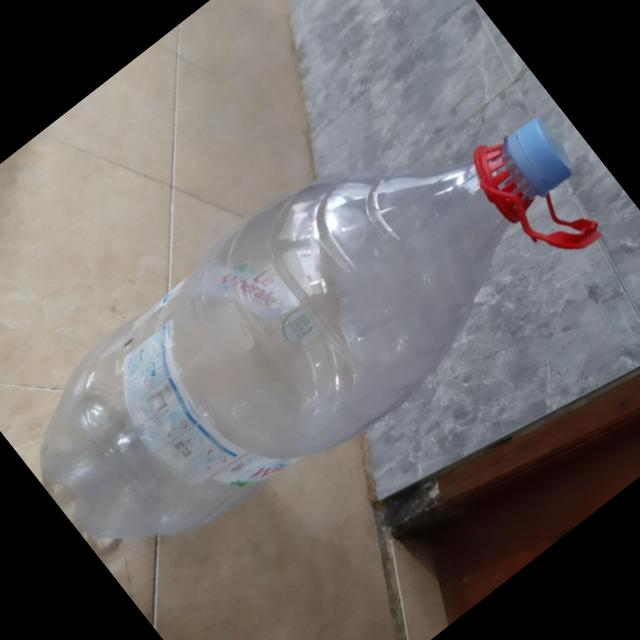Galon: (0, 35, 630, 608)
